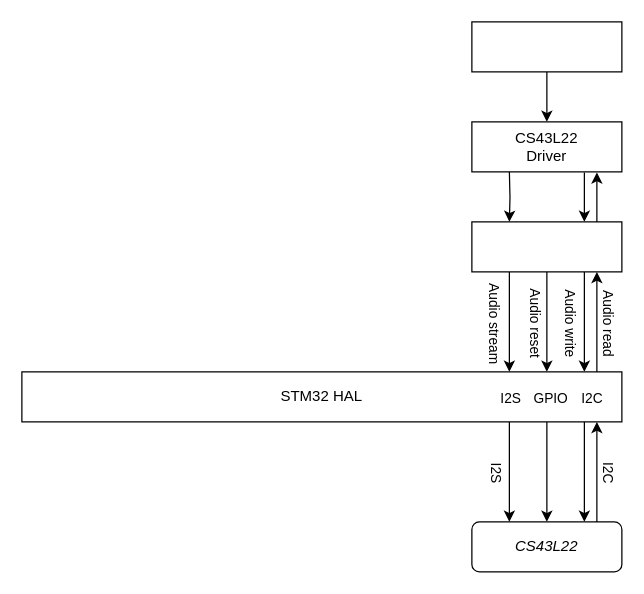
This 644x594 diagram has some shape labels left out. Here are the shapes that lost their labels. From the top down, the centre of each, then its label:
At (x=546, y=46): "Audio".
At (x=546, y=246): "Audio IO".
